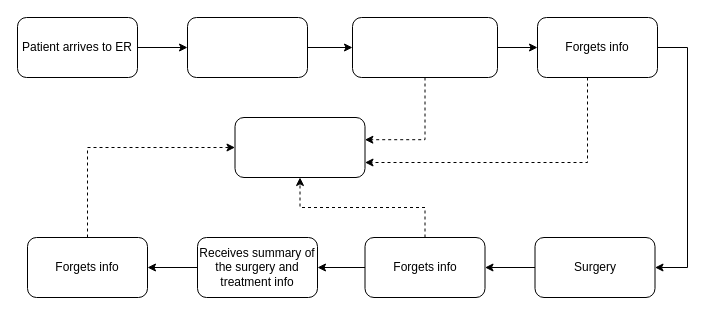
Some shapes in this 713 by 315 pixel diagram are drawn without their labels. Each missing label, with the centre of its shape:
"Diagnosis" goes at [247,47].
"Receives a link/QR code to our website and verbal info" goes at [425,47].
"Visits our website with information about surgery & treatment" goes at [299,147].
